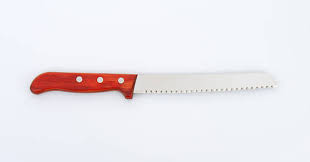knife: (29, 70, 282, 100)
